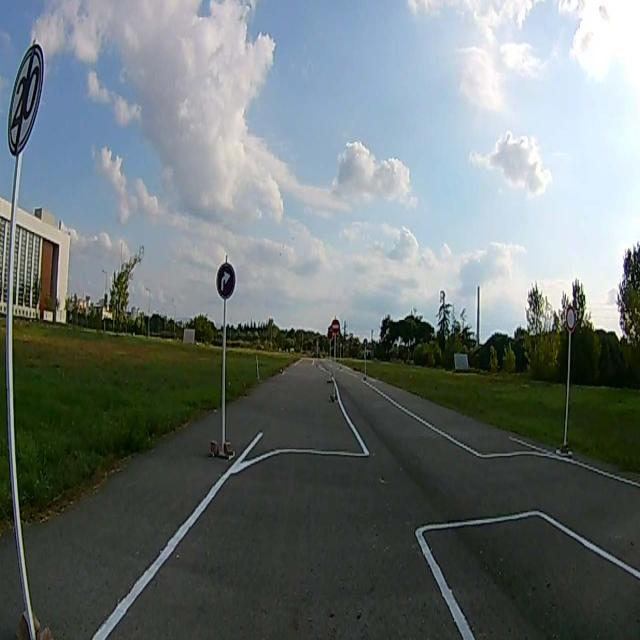sag: (217, 263, 236, 298)
